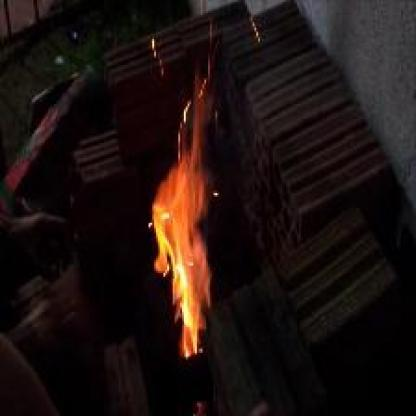fire: (149, 138, 226, 358)
